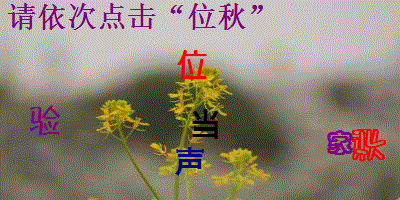text: (350, 127, 388, 162), (27, 105, 62, 139), (190, 108, 222, 141), (174, 144, 206, 177), (177, 49, 209, 81), (325, 129, 353, 157)
